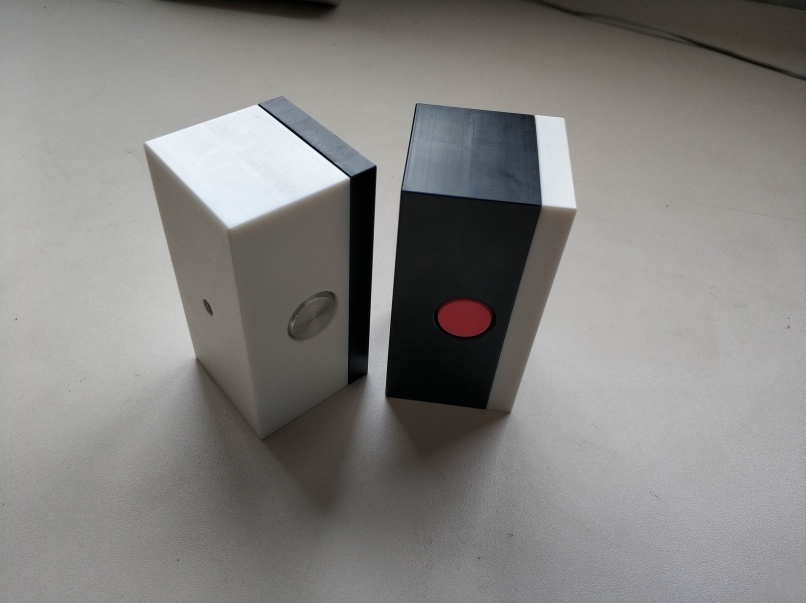black+white+silver: (142, 93, 379, 443)
white+black+red: (385, 101, 579, 414)
